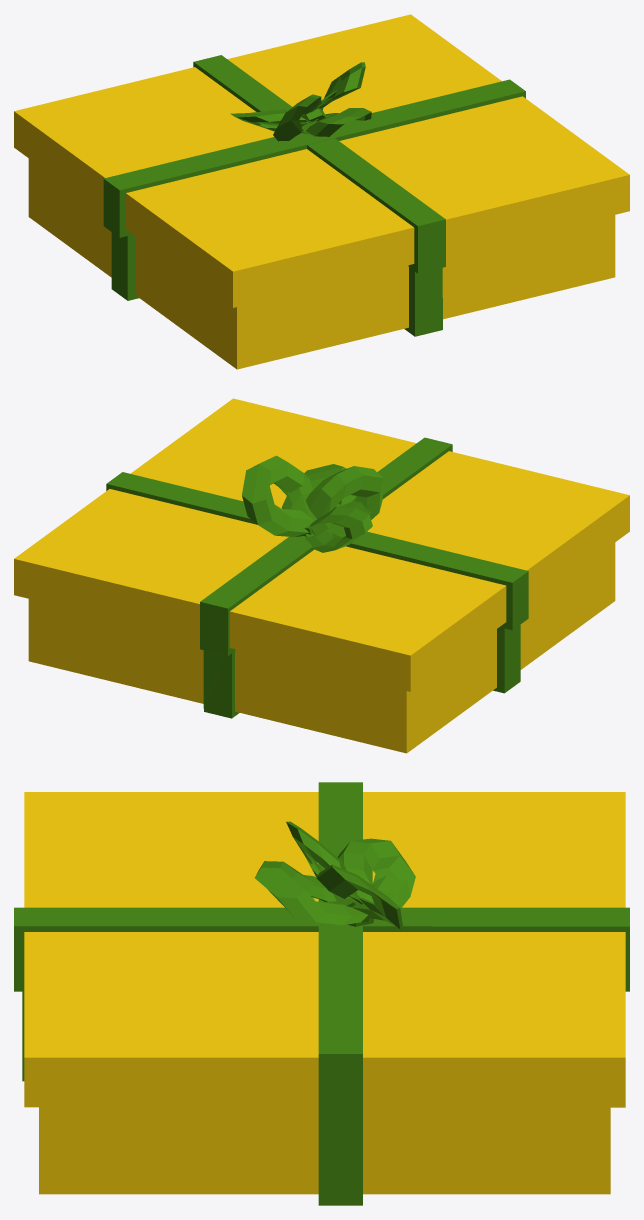
The model's file is Present.fbx.
3 renders of one model, top to bottom at view 1: azimuth 30°, elevation 25°; view 2: azimuth 150°, elevation 25°; view 3: azimuth 270°, elevation 25°, orthographic. The views are drawn at different scales.
Parts seen in each view (by area): view 1: mesh01, mat9; view 2: mesh01, mat9; view 3: mesh01, mat9.
Part boxes in pixels (<box>): mesh01: <box>14,14,629,369</box>; mat9: <box>103,55,525,336</box>; mesh01: <box>14,398,629,753</box>; mat9: <box>106,437,528,718</box>; mesh01: <box>24,792,625,1194</box>; mat9: <box>14,782,629,1205</box>.
Bounding box in the file's own units: 2.18 × 0.8815 × 2.09.
